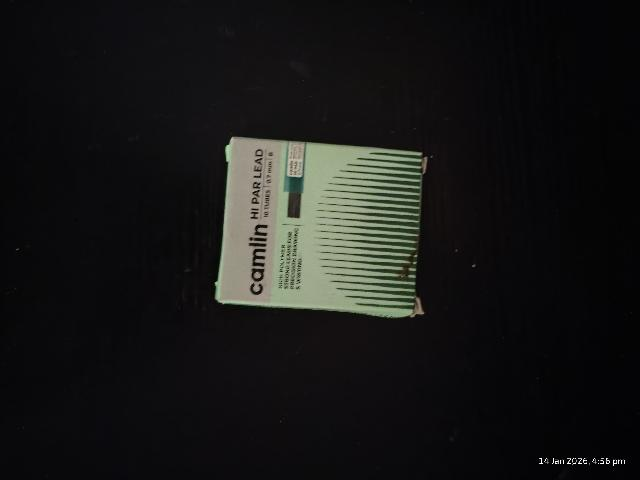camlin lids: (228, 138, 418, 313)
